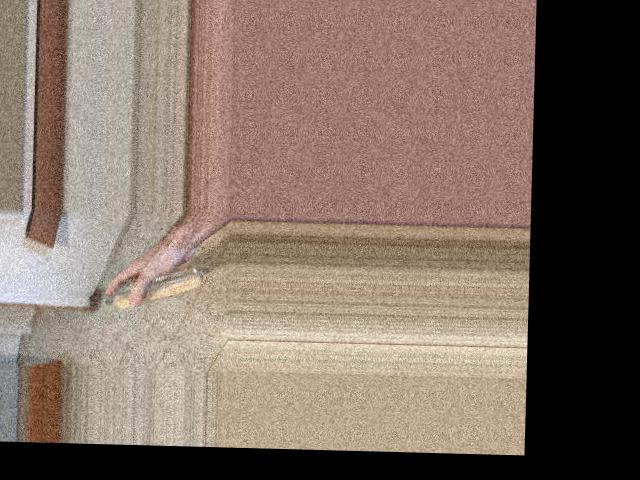cheese: (99, 239, 194, 322)
